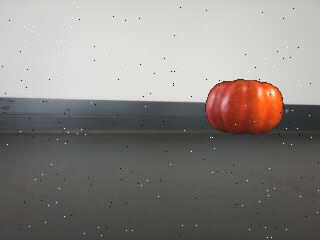Pumpkin: (205, 79, 288, 136)
